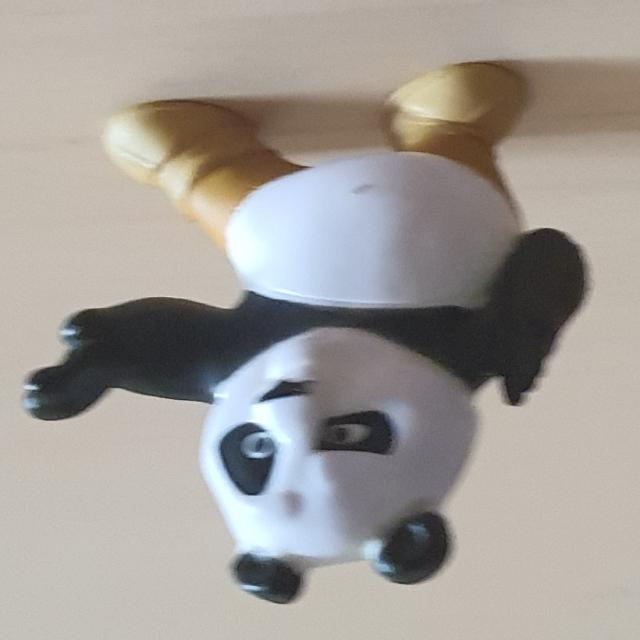Panda: (21, 62, 592, 607)
